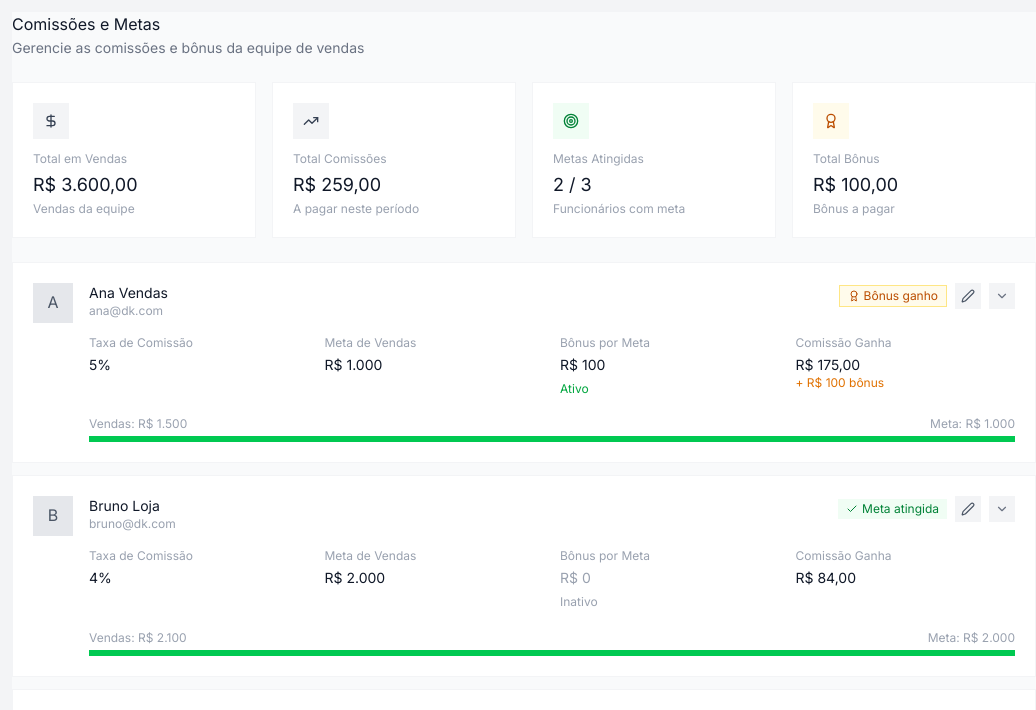
Commissions › atualiza a meta existente e zera o bônus desativado
The width and height of the screenshot is (1036, 710).
Expected: the heading "Comissões e Metas" is shown, left=12, top=14, right=160, bottom=34
Click the 3rd button at point(968, 509), box left=955, top=496, right=981, bottom=522
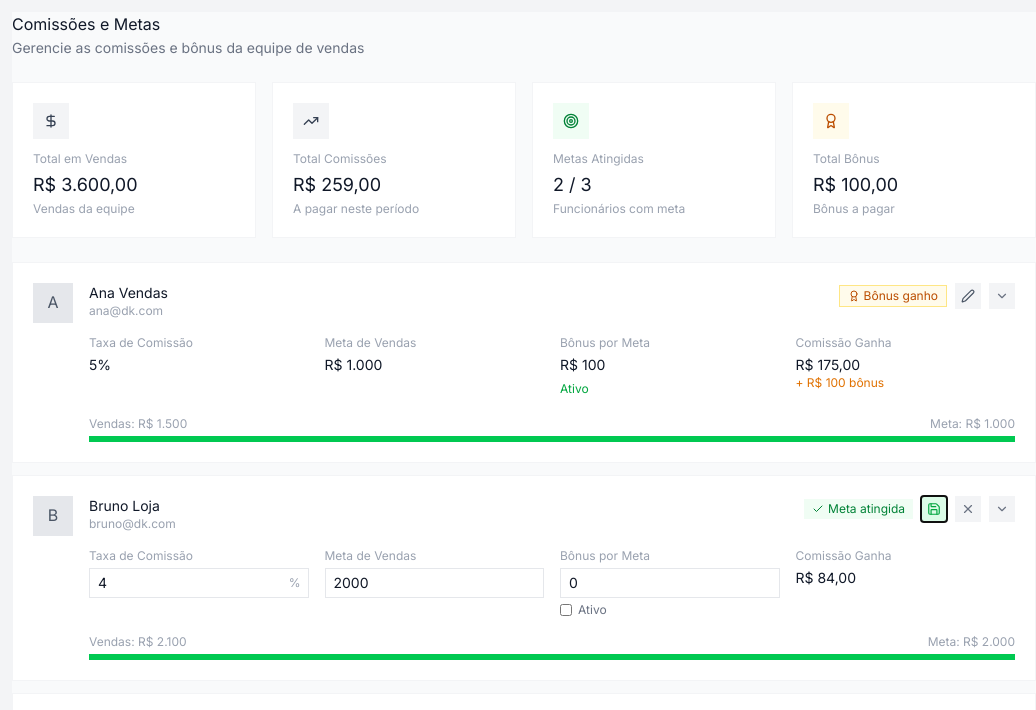
Click the checkbox labelled "Ativo" at point(566, 610), box left=560, top=604, right=572, bottom=616
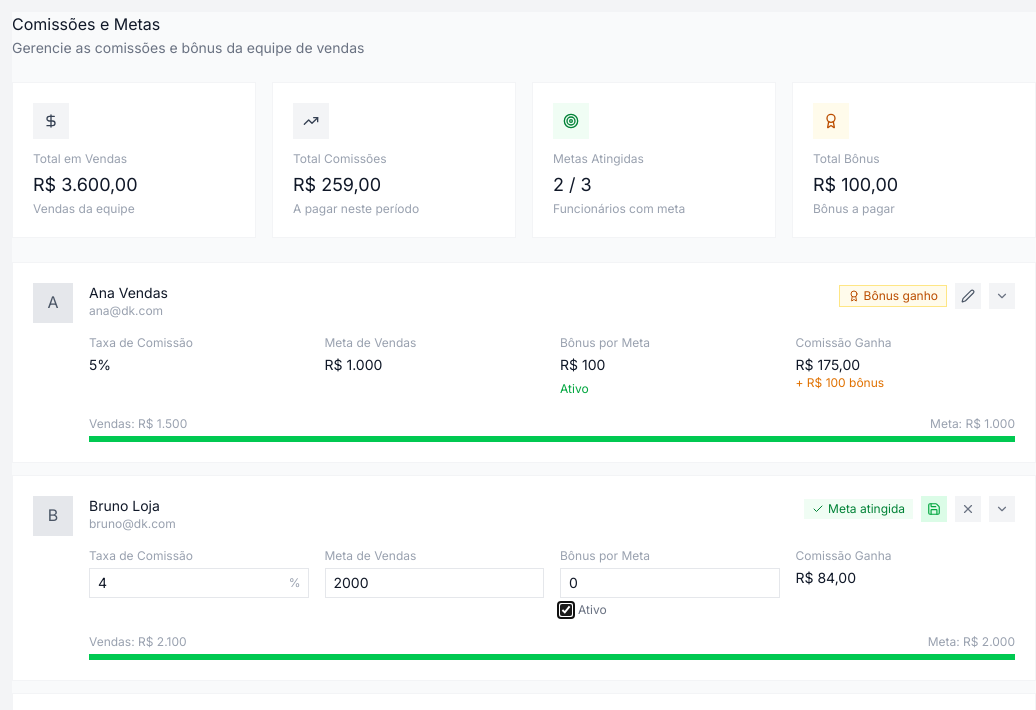
Click the checkbox labelled "Ativo" at point(566, 610), box left=560, top=604, right=572, bottom=616
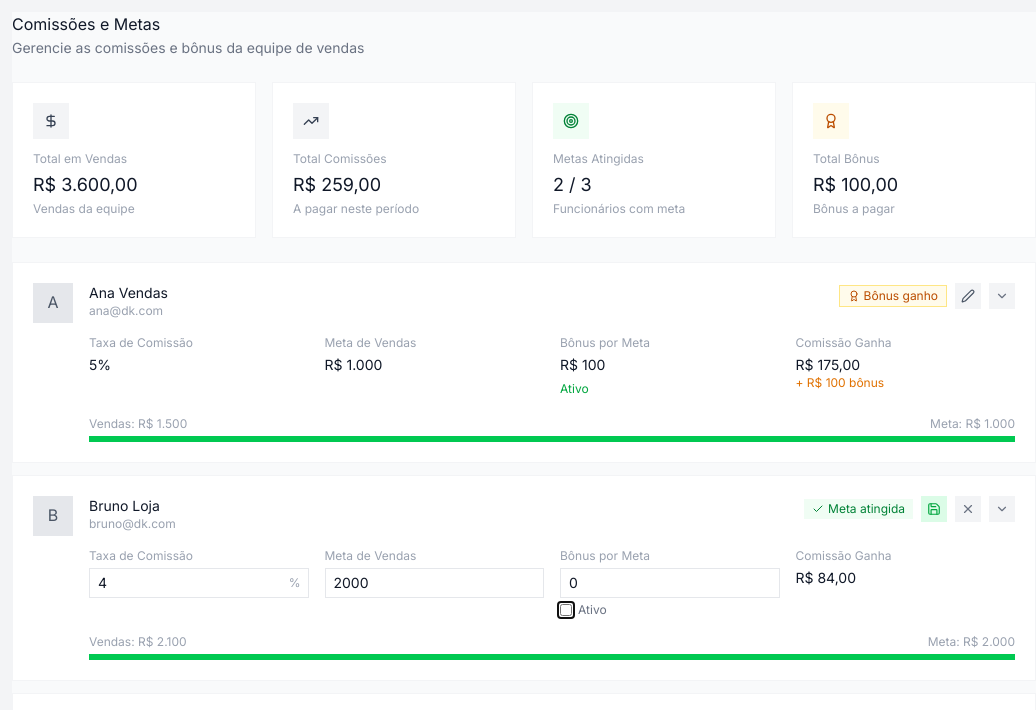
Click the 3rd button at point(934, 509), box left=921, top=496, right=947, bottom=522
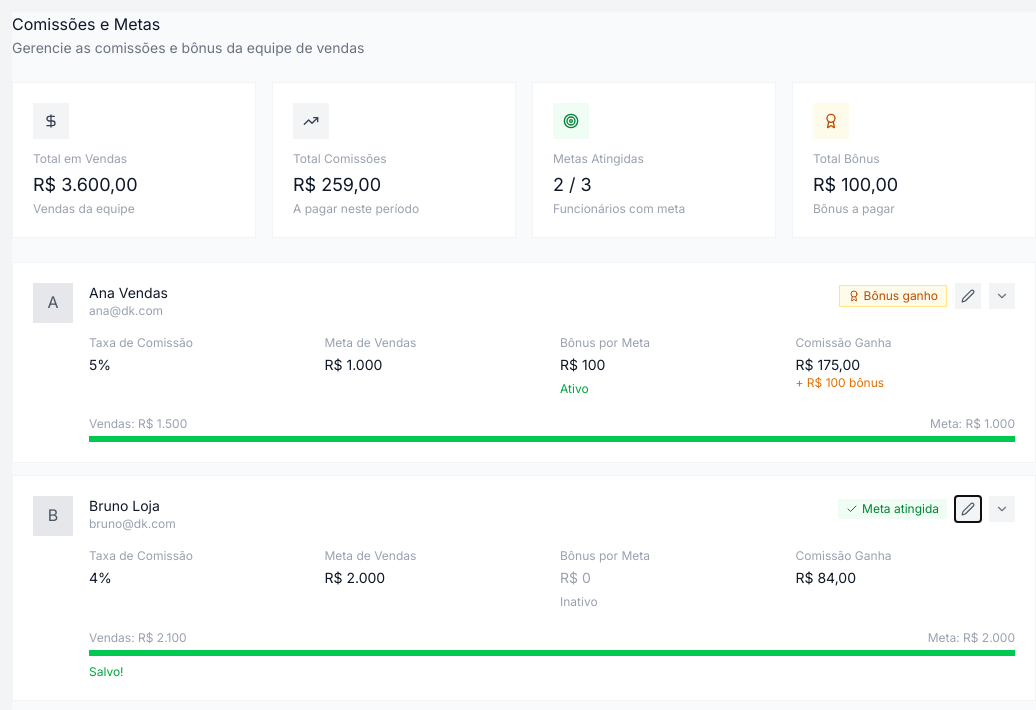
Result: the text "Salvo!" is shown at left=89, top=664, right=124, bottom=679
